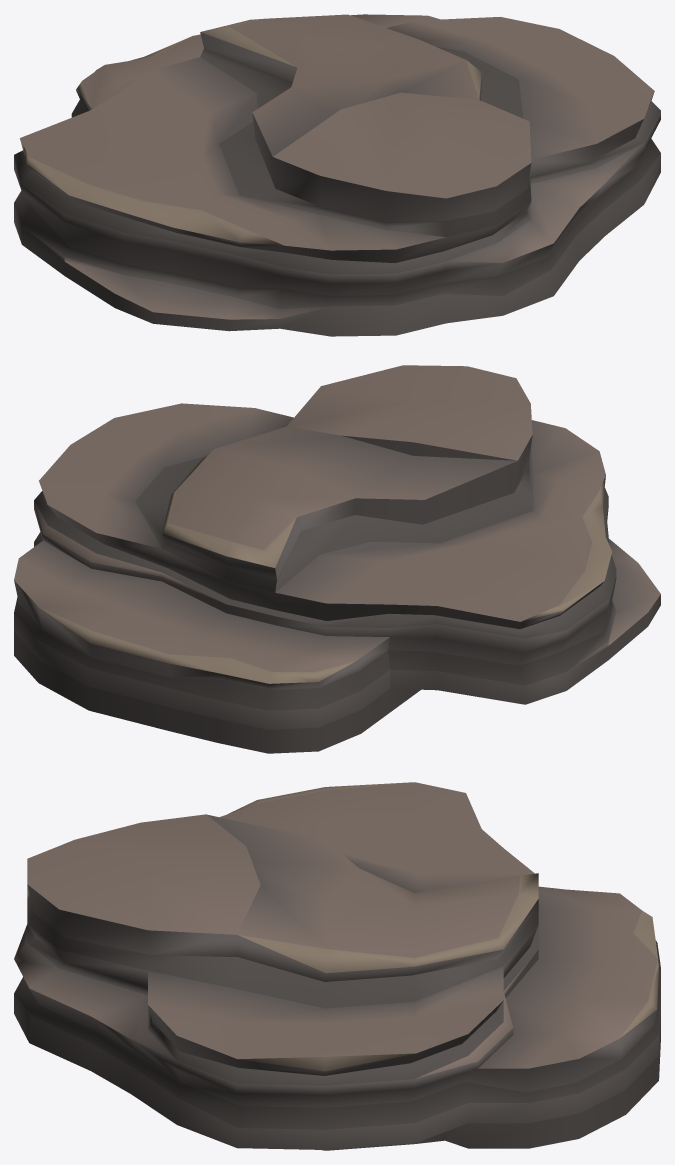
The picture shows the model from 3 angles, top to bottom: view 1: azimuth 30°, elevation 25°; view 2: azimuth 150°, elevation 25°; view 3: azimuth 270°, elevation 25°; orthographic projection. The views are drawn at different scales.
Visible parts, largest first — view 1: RockFlatLayered.002; view 2: RockFlatLayered.002; view 3: RockFlatLayered.002.
Part boxes in pixels (x1,y1,x2,y2): RockFlatLayered.002: (14, 14, 660, 336); RockFlatLayered.002: (14, 365, 660, 753); RockFlatLayered.002: (14, 782, 660, 1150).
Size of the model in its own units: 0.5 by 0.138 by 0.4843.
